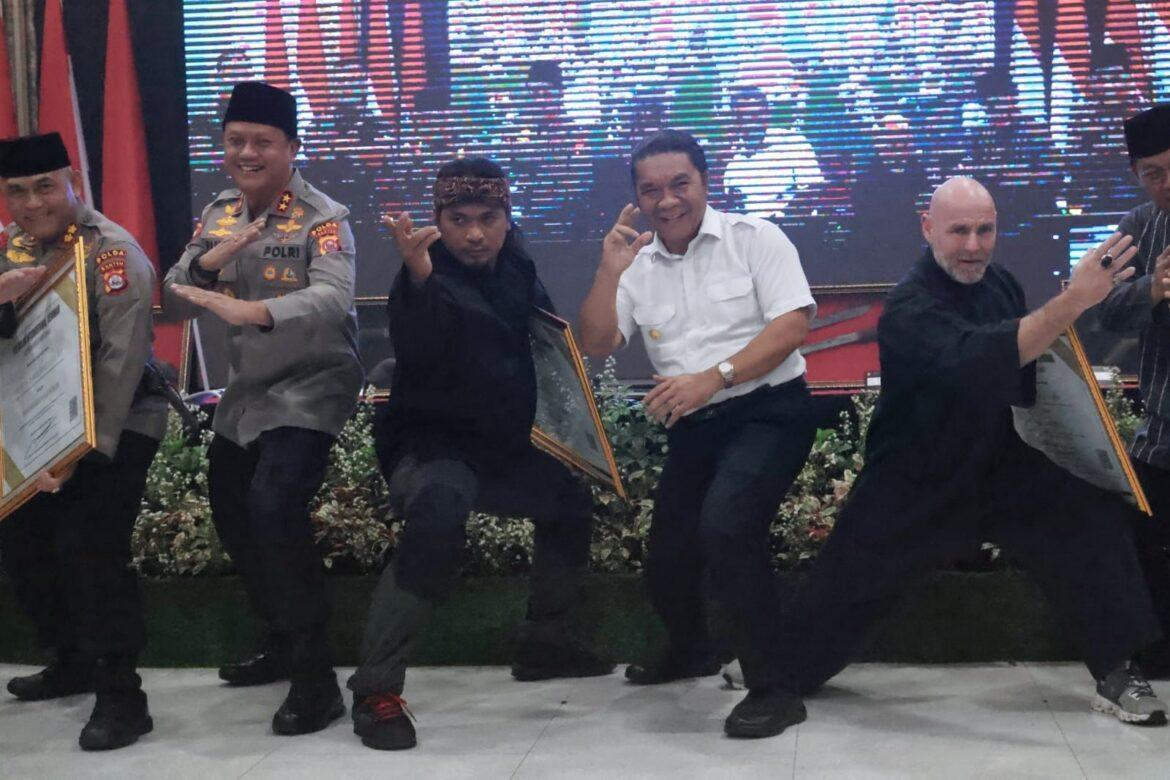facao: (791, 288, 907, 372)
